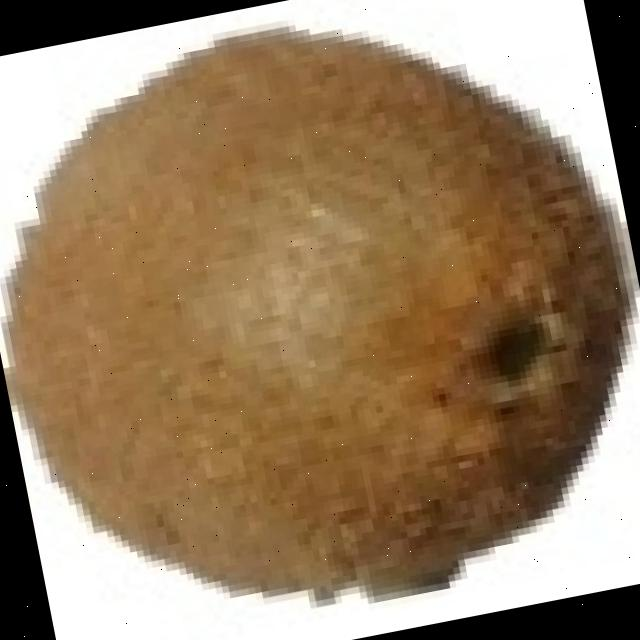kiwi: (0, 24, 615, 585)
